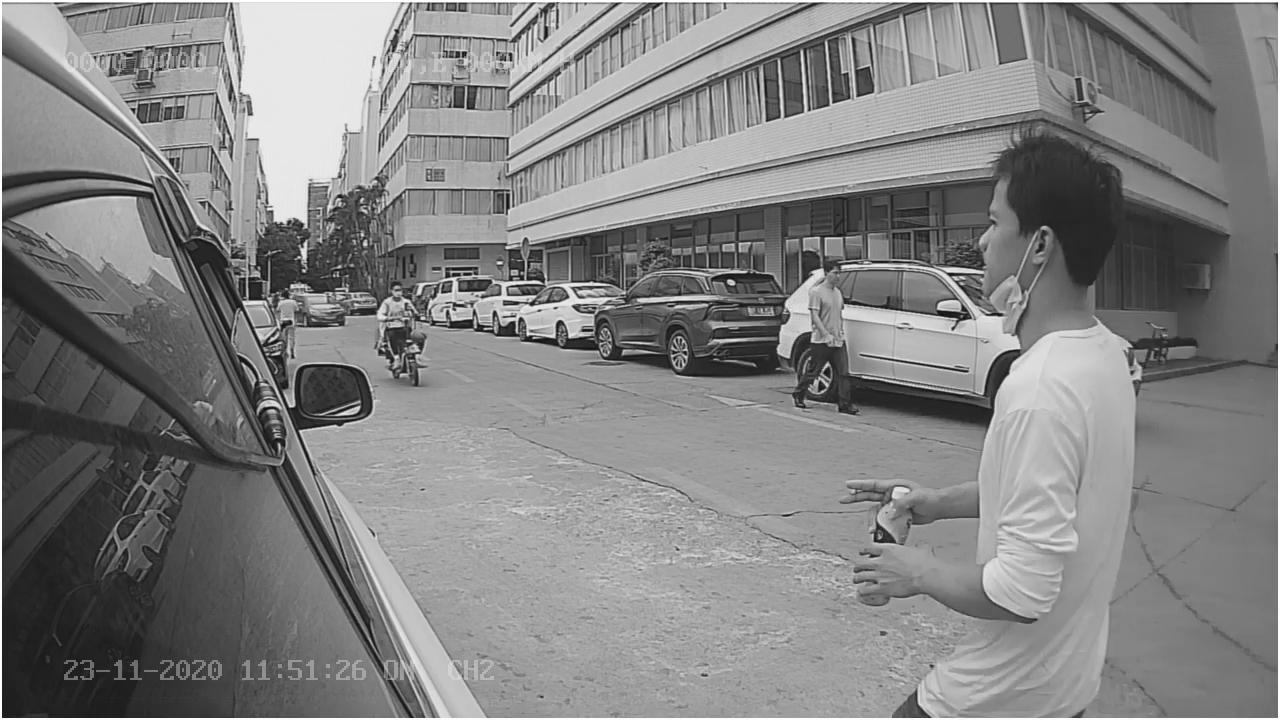person: (788, 254, 866, 419)
